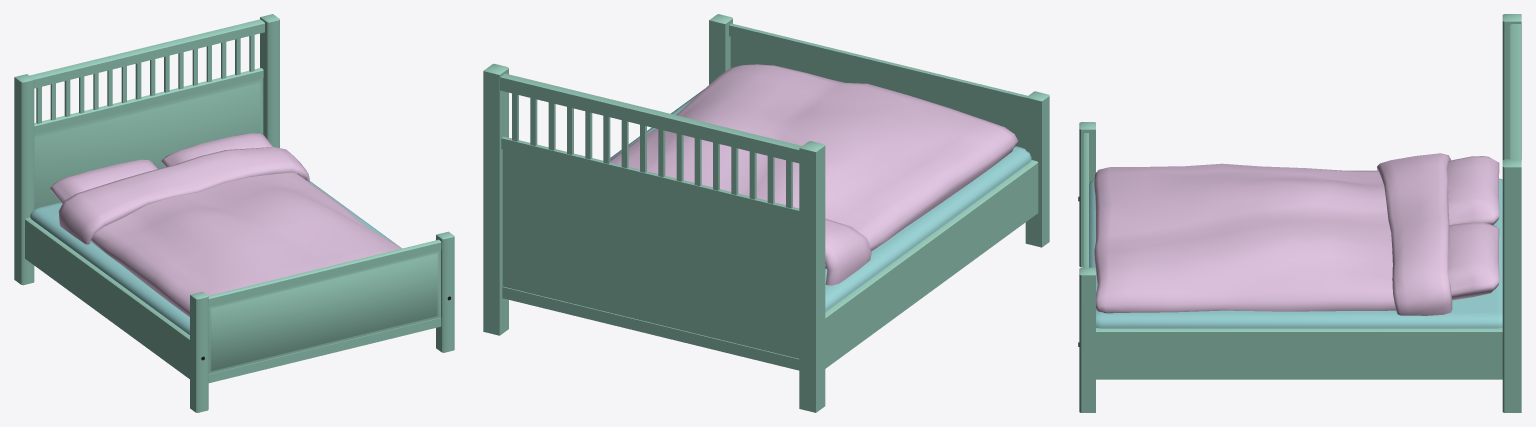
Rendered from HemnesDoublBedFrame.FBX.
3 views of the same model, side by side, from view 1: azimuth 30°, elevation 25°; view 2: azimuth 150°, elevation 25°; view 3: azimuth 270°, elevation 25° (orthographic). The views are drawn at different scales.
Visible parts, largest first — view 1: HemnesDoublBedFrame; view 2: HemnesDoublBedFrame; view 3: HemnesDoublBedFrame.
Part boxes in pixels (x1=…): HemnesDoublBedFrame: x1=14, y1=14, x2=454, y2=412; HemnesDoublBedFrame: x1=483, y1=14, x2=1049, y2=412; HemnesDoublBedFrame: x1=1078, y1=14, x2=1521, y2=412.
Bounding box in the file's own units: 161 × 197 × 121.
